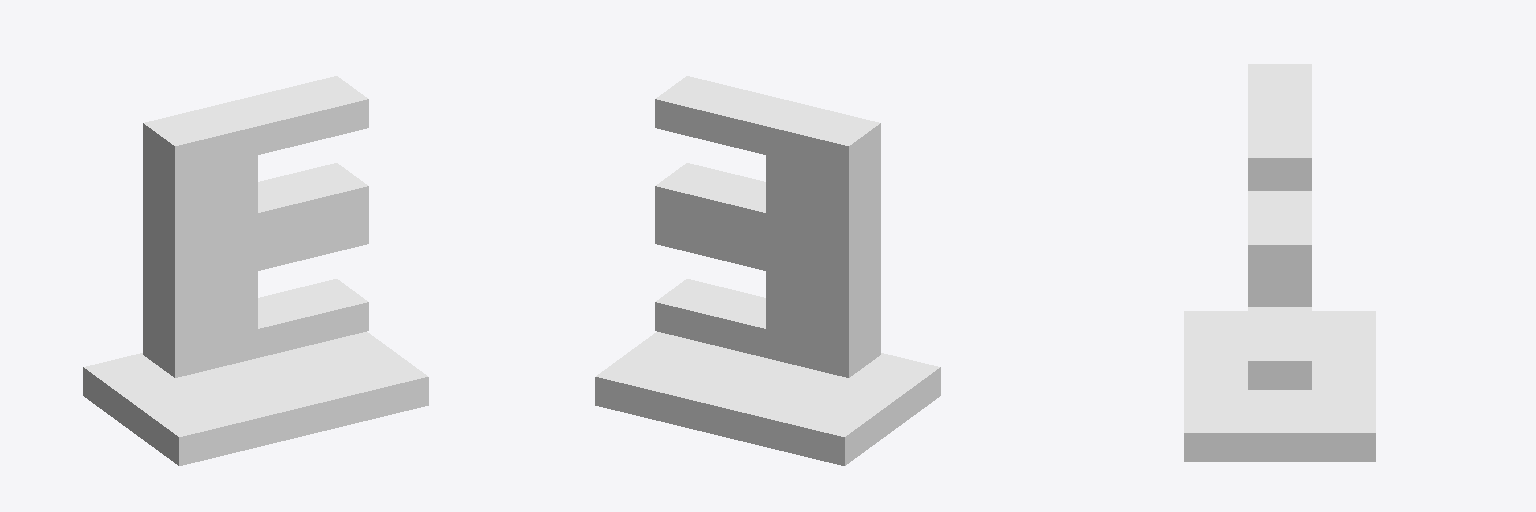
File: toy-store-6-e.obj
3 renders of one model, left to right at view 1: azimuth 30°, elevation 25°; view 2: azimuth 150°, elevation 25°; view 3: azimuth 270°, elevation 25°, orthographic.
Visible parts, largest first — view 1: e; view 2: e; view 3: e.
Boxes of the visible parts, x1=… form: e: x1=83, y1=76, x2=428, y2=465; e: x1=595, y1=76, x2=940, y2=465; e: x1=1184, y1=64, x2=1375, y2=461.
Bounding box in the file's own units: 0.9 × 1 × 0.6.